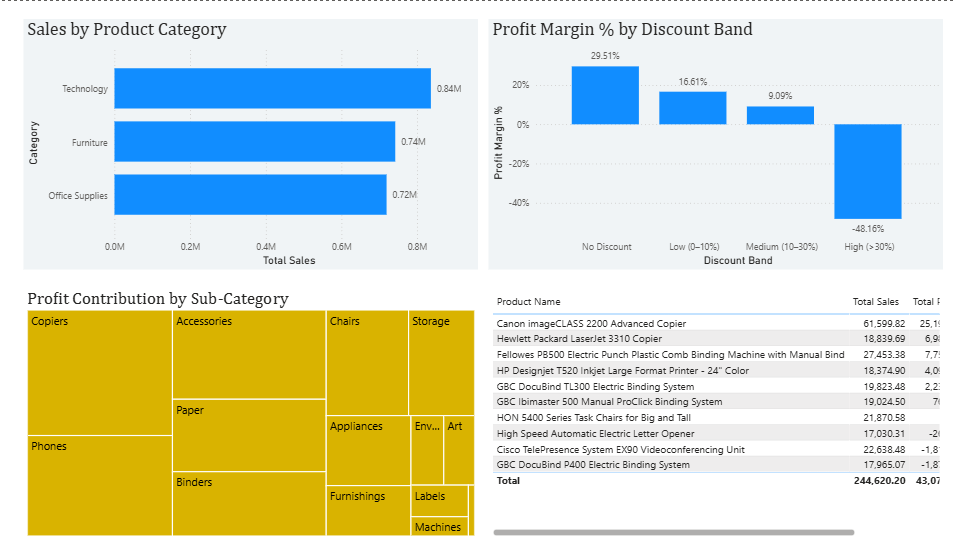

The dashboard page shown, as its layout file describes it:
{"tool":"powerbi","page":{"name":"Product & Discount Analysis","canvas":[1280,720],"ordinal":1},"visuals":[{"type":"clusteredBarChart","title":"Sales by Product Category","fields":{"Category":["Sample_ Superstore.Category"],"Y":["Sample_ Superstore.Total Sales"]},"box":[34,24,606,334],"z":0},{"type":"treemap","title":"Profit Contribution by Sub-Category","fields":{"Group":["Sample_ Superstore.Sub-Category"],"Values":["Sample_ Superstore.Total Profit"]},"box":[34,384,606,334],"z":1000},{"type":"clusteredColumnChart","fields":{"Category":["Sample_ Superstore.Discount Band"],"Y":["Sample_ Superstore.Profit Margin %"]},"box":[654,24,606,334],"z":2000},{"type":"tableEx","fields":{"Values":["Sample_ Superstore.Product Name","Sample_ Superstore.Total Sales","Sample_ Superstore.Total Profit","Sample_ Superstore.Profit Margin %"]},"box":[654,384,606,334],"z":3000}]}

Visuals, with their boxes in screenshot pixels (x1, y1, x2, y2), scaled from the page's 1280x720 canvas onto the 957x538 screenshot:
"Sales by Product Category" clusteredBarChart: 25,18,478,268
"Profit Contribution by Sub-Category" treemap: 25,287,478,537
clusteredColumnChart - Sample_ Superstore.Discount Band x Sample_ Superstore.Profit Margin %: 489,18,942,268
tableEx - Sample_ Superstore.Product Name x Sample_ Superstore.Total Sales: 489,287,942,537
